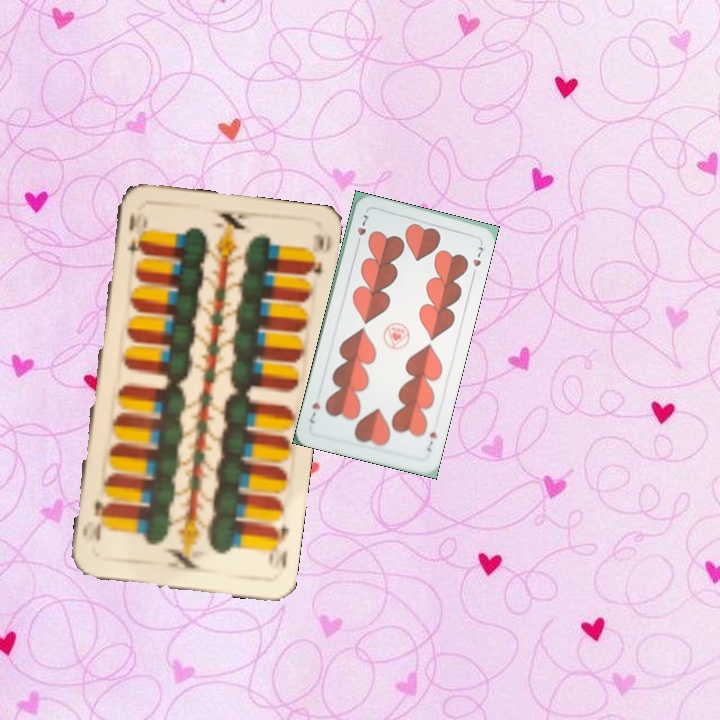E10: (264, 519, 292, 572), (123, 207, 146, 265)
H7: (352, 210, 371, 248), (423, 428, 440, 454)
